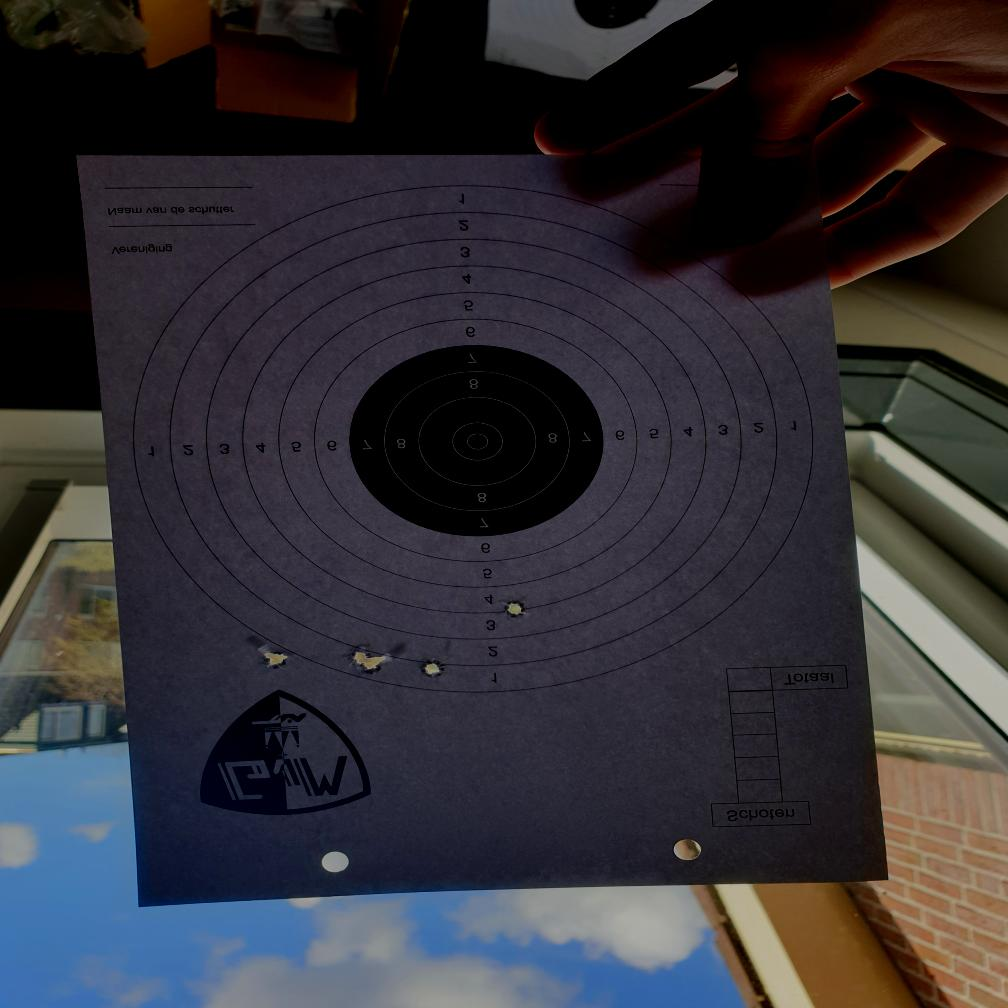0: (258, 650, 290, 669)
1: (360, 656, 386, 674), (346, 649, 369, 666)
2: (420, 659, 444, 678)
4: (501, 600, 529, 618)
Target: (130, 181, 820, 696)
black_contour: (350, 344, 604, 537)
